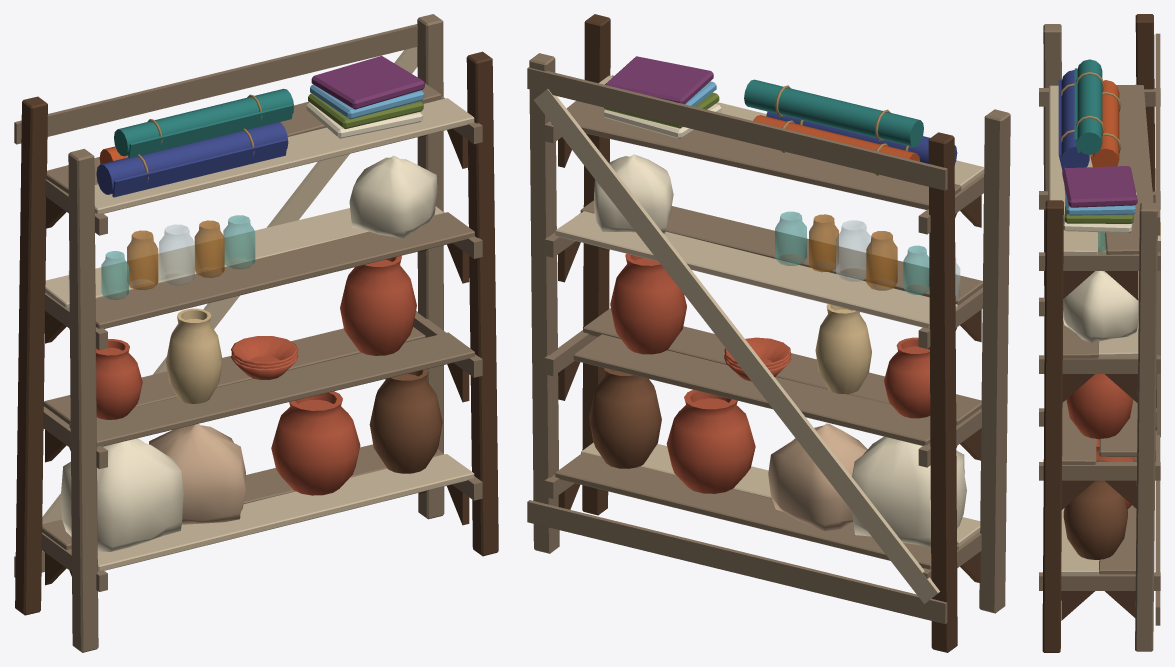
Rendered from deco_shelf_wood.fbx.
3 views of the same model, side by side, from view 1: azimuth 30°, elevation 25°; view 2: azimuth 150°, elevation 25°; view 3: azimuth 270°, elevation 25° (orthographic). The views are drawn at different scales.
Visible parts, largest first — view 1: Shelf_Wood_Posts, Shelf_Wood_Planks, Shelf_Wood_Pots, Shelf_Wood_Sacks, Shelf_Wood_Cloth, Shelf_Wood_Brackets, Shelf_Wood_Jars; view 2: Shelf_Wood_Posts, Shelf_Wood_Planks, Shelf_Wood_Pots, Shelf_Wood_Sacks, Shelf_Wood_Cloth, Shelf_Wood_Brackets, Shelf_Wood_Jars; view 3: Shelf_Wood_Posts, Shelf_Wood_Planks, Shelf_Wood_Brackets, Shelf_Wood_Cloth, Shelf_Wood_Pots, Shelf_Wood_Sacks.
Boxes of the visible parts, box(x1,y1,x2,y2) form: Shelf_Wood_Posts: box(14, 14, 498, 652); Shelf_Wood_Planks: box(42, 83, 474, 570); Shelf_Wood_Pots: box(96, 255, 442, 495); Shelf_Wood_Sacks: box(60, 155, 437, 551); Shelf_Wood_Cloth: box(96, 55, 424, 197); Shelf_Wood_Brackets: box(42, 96, 482, 591); Shelf_Wood_Jars: box(68, 215, 255, 299); Shelf_Wood_Posts: box(527, 14, 1010, 652); Shelf_Wood_Planks: box(551, 75, 984, 569); Shelf_Wood_Pots: box(589, 253, 930, 493); Shelf_Wood_Sacks: box(594, 154, 966, 547); Shelf_Wood_Cloth: box(603, 56, 957, 175); Shelf_Wood_Brackets: box(544, 75, 984, 582); Shelf_Wood_Jars: box(775, 211, 960, 301); Shelf_Wood_Posts: box(1042, 14, 1160, 652); Shelf_Wood_Planks: box(1048, 84, 1153, 575); Shelf_Wood_Brackets: box(1039, 88, 1160, 620); Shelf_Wood_Cloth: box(1058, 59, 1137, 232); Shelf_Wood_Pots: box(1063, 374, 1134, 559); Shelf_Wood_Sacks: box(1063, 271, 1138, 461).
Bounding box in the file's own units: 215 × 249 × 60.1.
